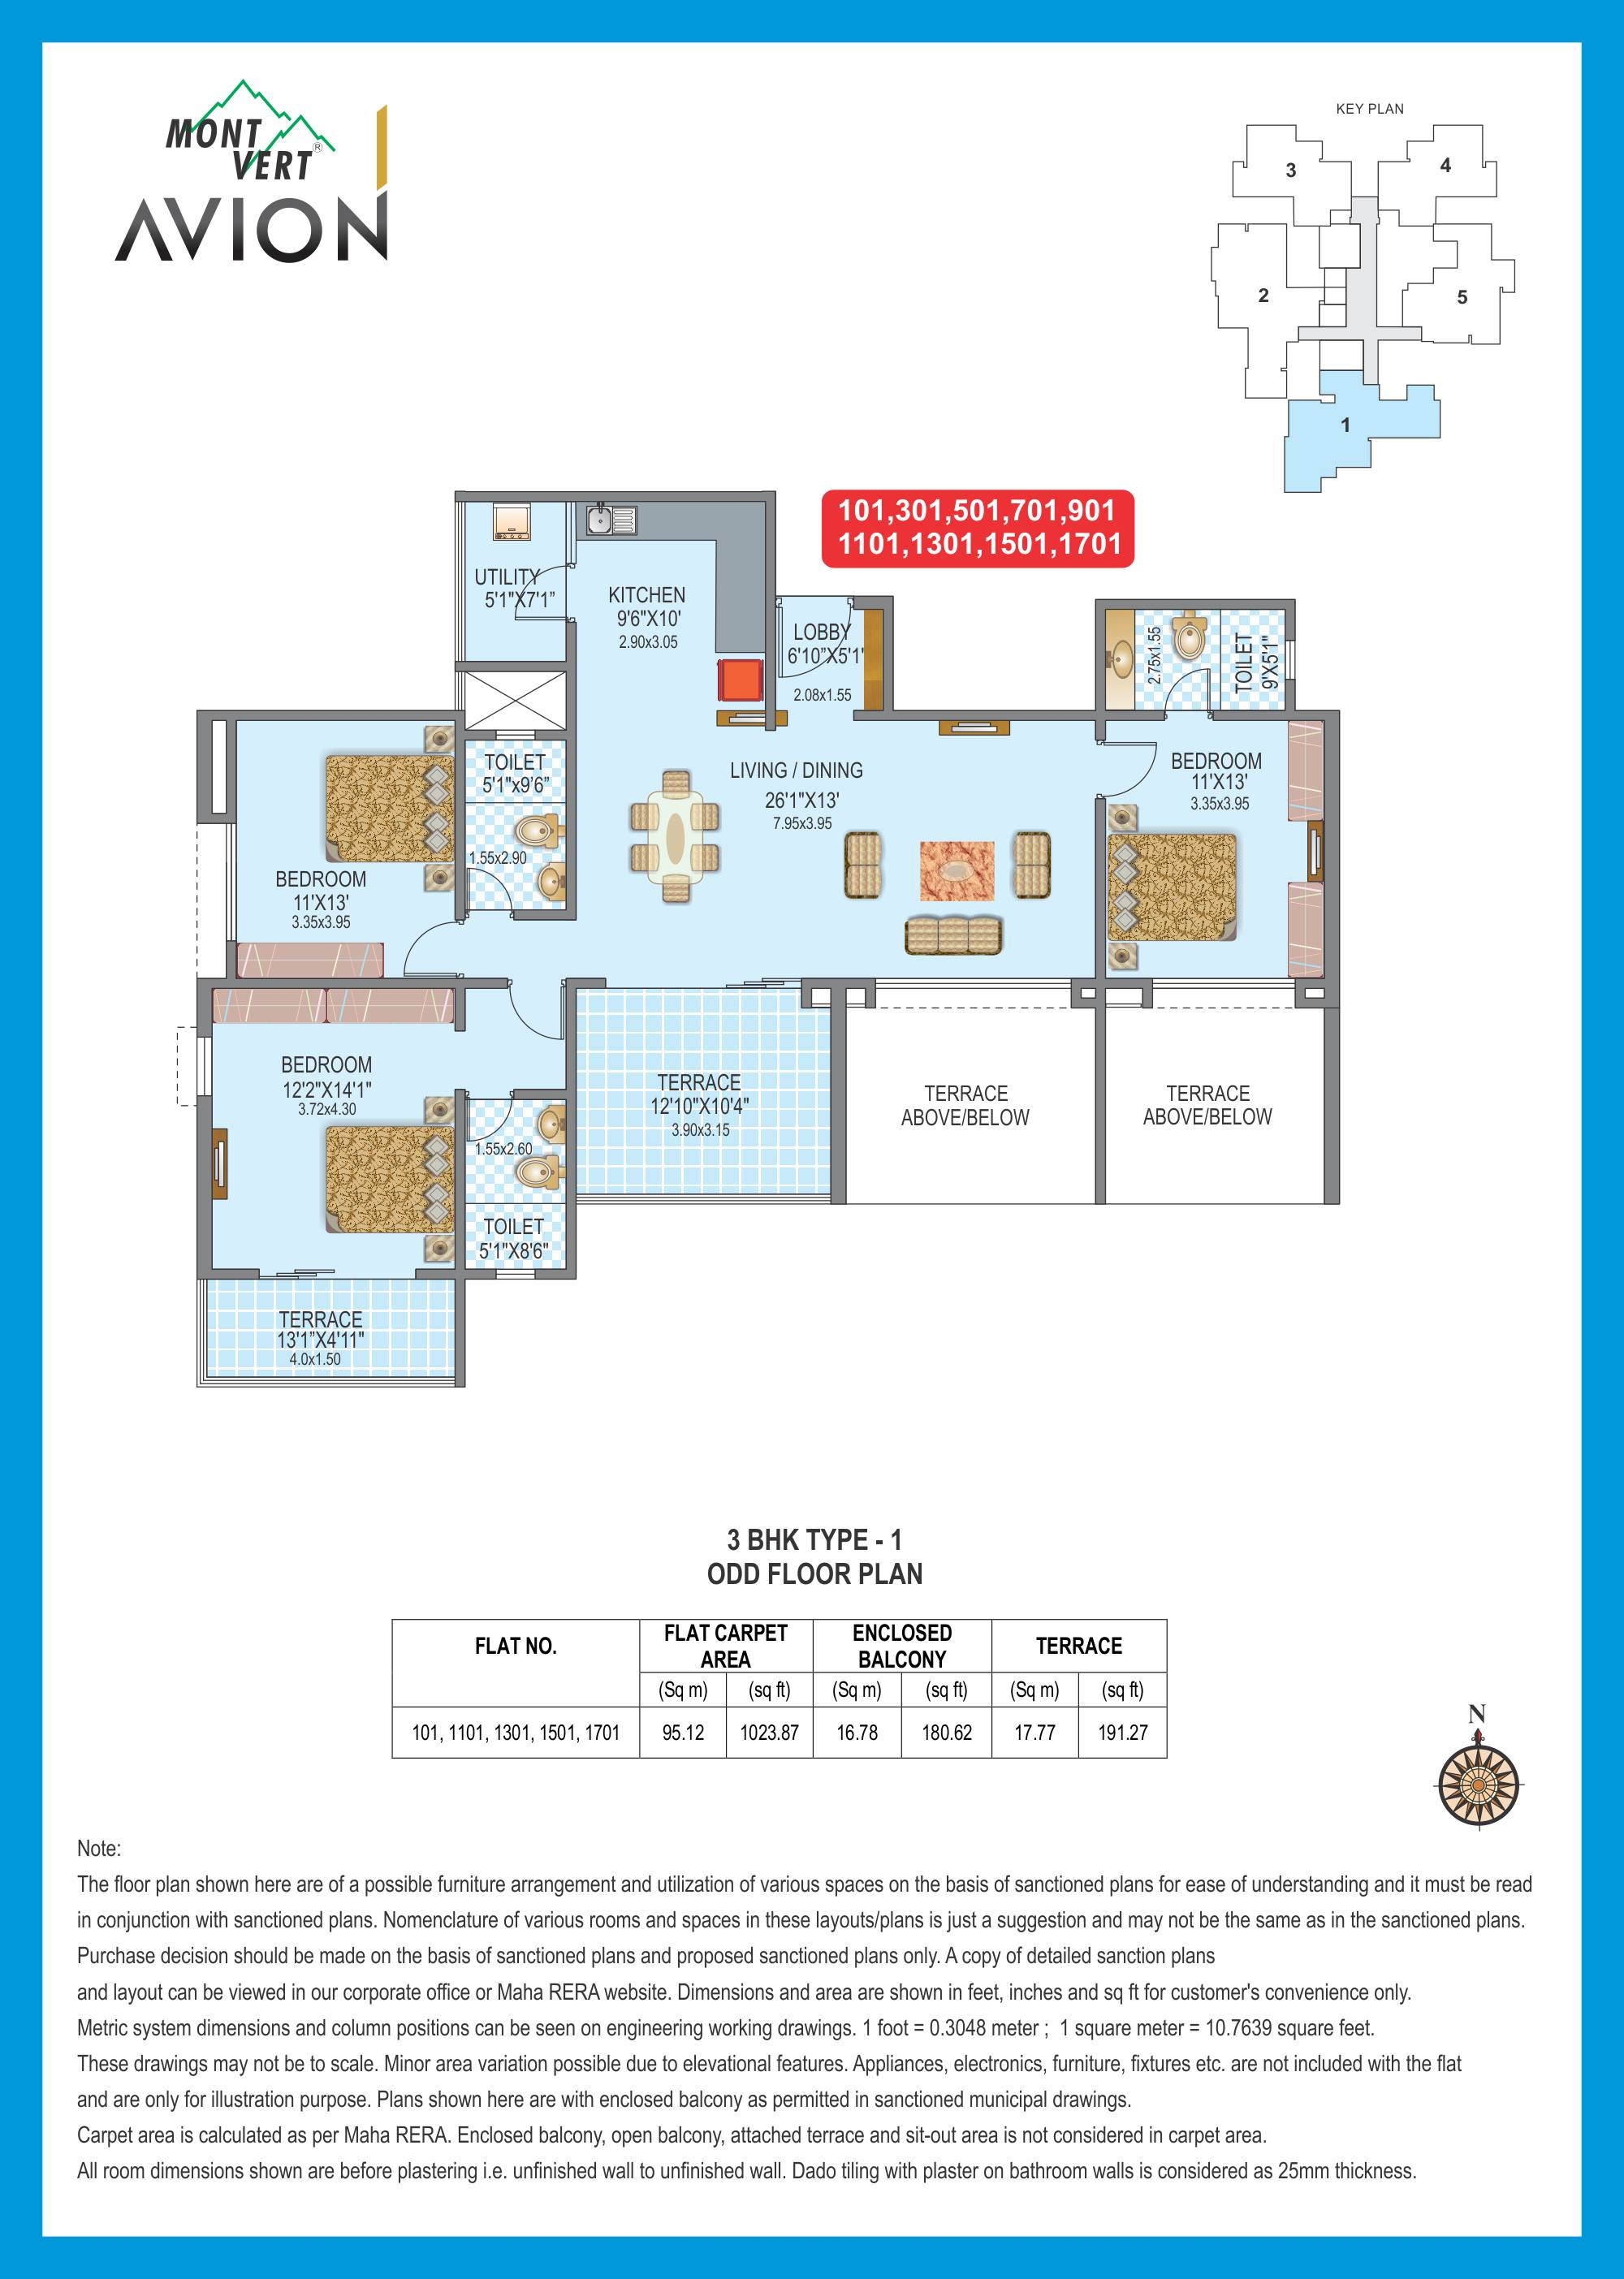window: (870, 973, 1076, 1016), (1149, 975, 1301, 1016), (220, 817, 243, 944), (193, 1033, 220, 1102), (490, 724, 538, 745), (1281, 638, 1299, 685), (452, 668, 469, 715)
